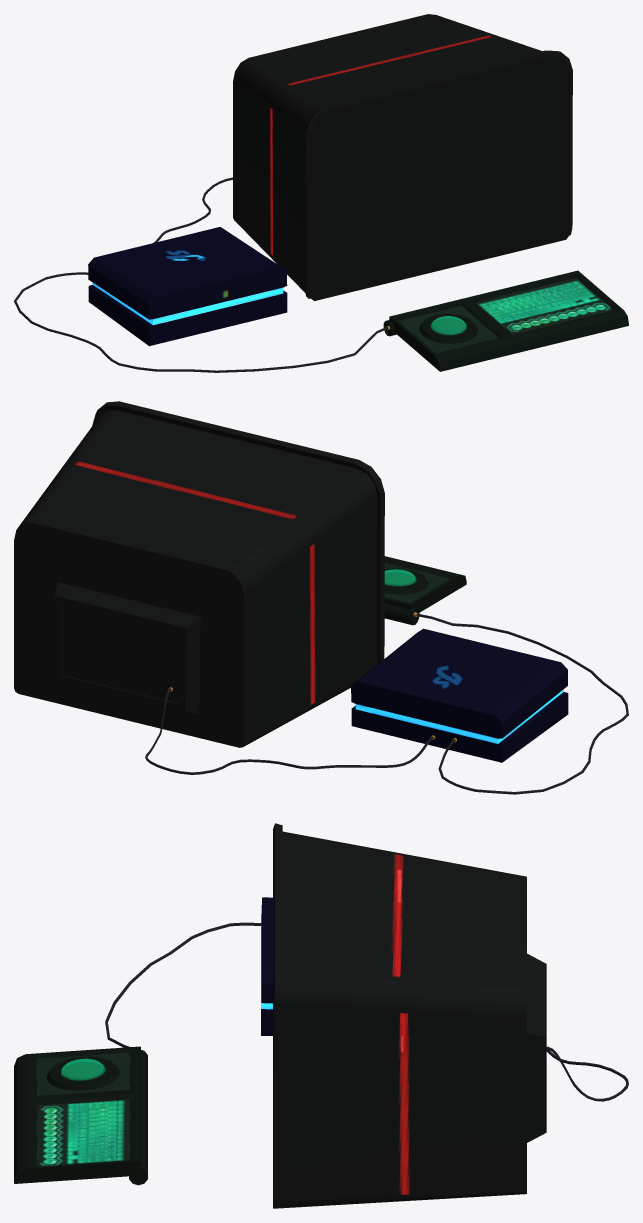
Rendered from webdev.glb.
3 views of the same model, one above another, from view 1: azimuth 30°, elevation 25°; view 2: azimuth 150°, elevation 25°; view 3: azimuth 270°, elevation 25° (orthographic). The views are drawn at different scales.
Parts seen in each view (by area): view 1: Object_2, Object_3; view 2: Object_2, Object_3; view 3: Object_2, Object_3.
Boxes of the visible parts, x1=… form: Object_2: x1=233, y1=14, x2=572, y2=300; Object_3: x1=14, y1=47, x2=628, y2=372; Object_2: x1=17, y1=401, x2=384, y2=746; Object_3: x1=14, y1=522, x2=628, y2=794; Object_2: x1=273, y1=823, x2=546, y2=1208; Object_3: x1=14, y1=897, x2=628, y2=1185.
Size of the model in its own units: 18.24 by 6.77 by 15.73.
1 material, 1 textured.
